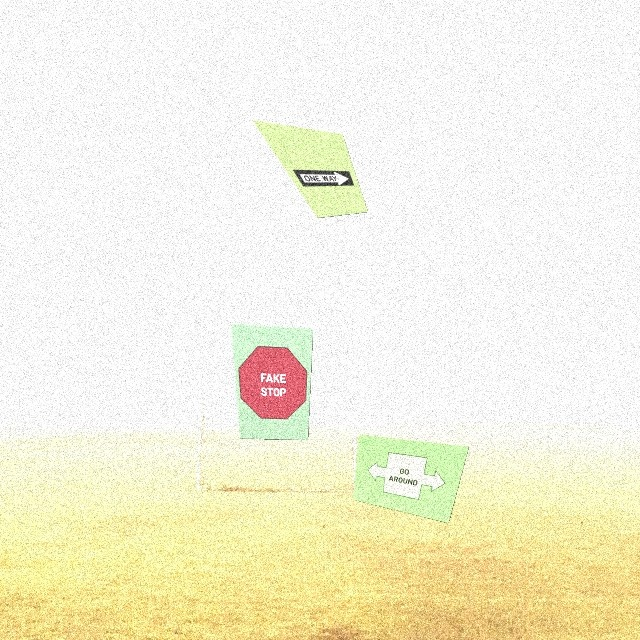FAKE_STOP: (236, 345, 308, 420)
GO_AROUND: (363, 450, 451, 505)
ONE_WAY_ right: (293, 156, 354, 199)
